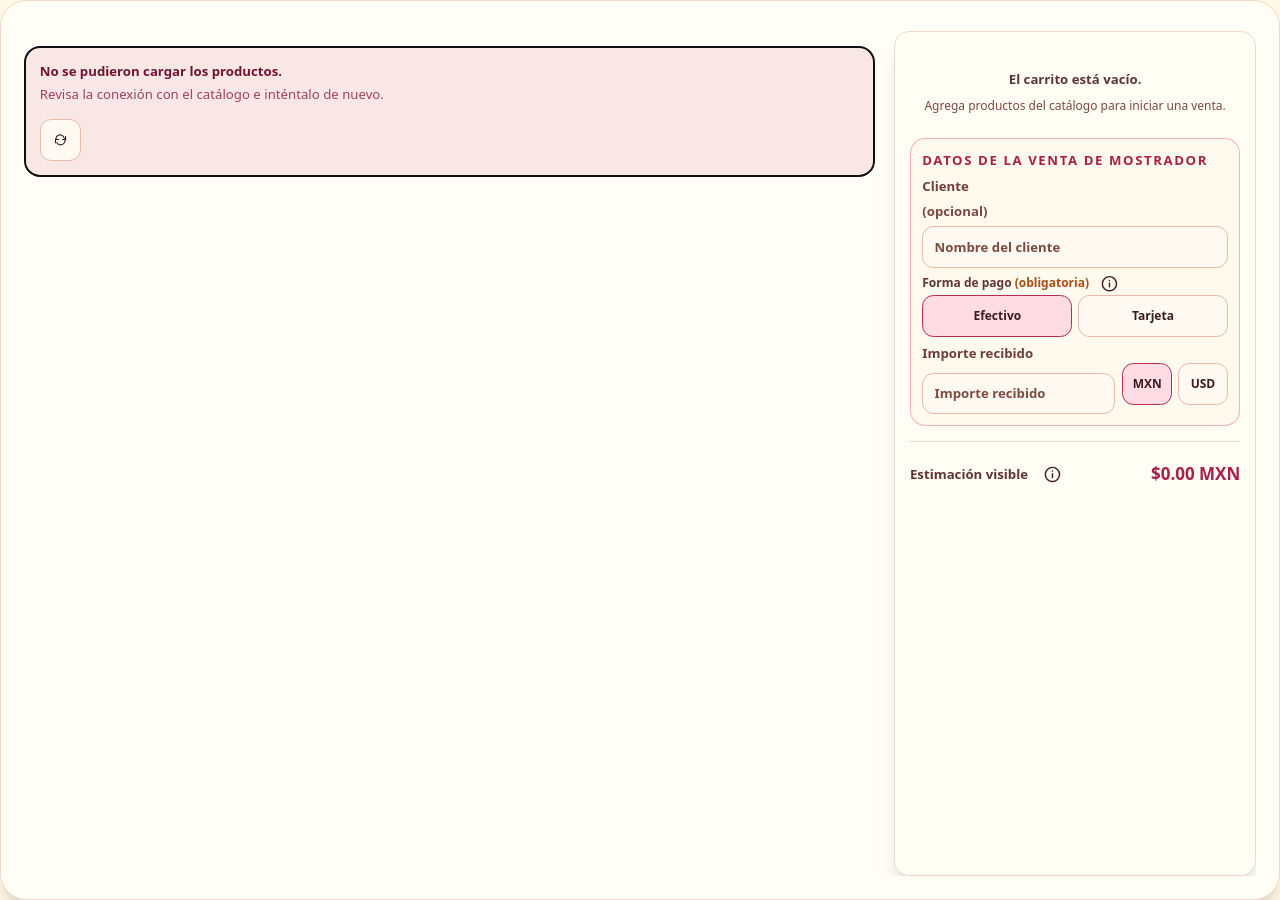
Test: sales workspace › recovers when the catalog request fails
Expected: the message shows "No se pudieron cargar los productos.", 40,62 -> 282,80
Click the button named "Reintentar".
click(60, 140)  # box 40,119 -> 81,160
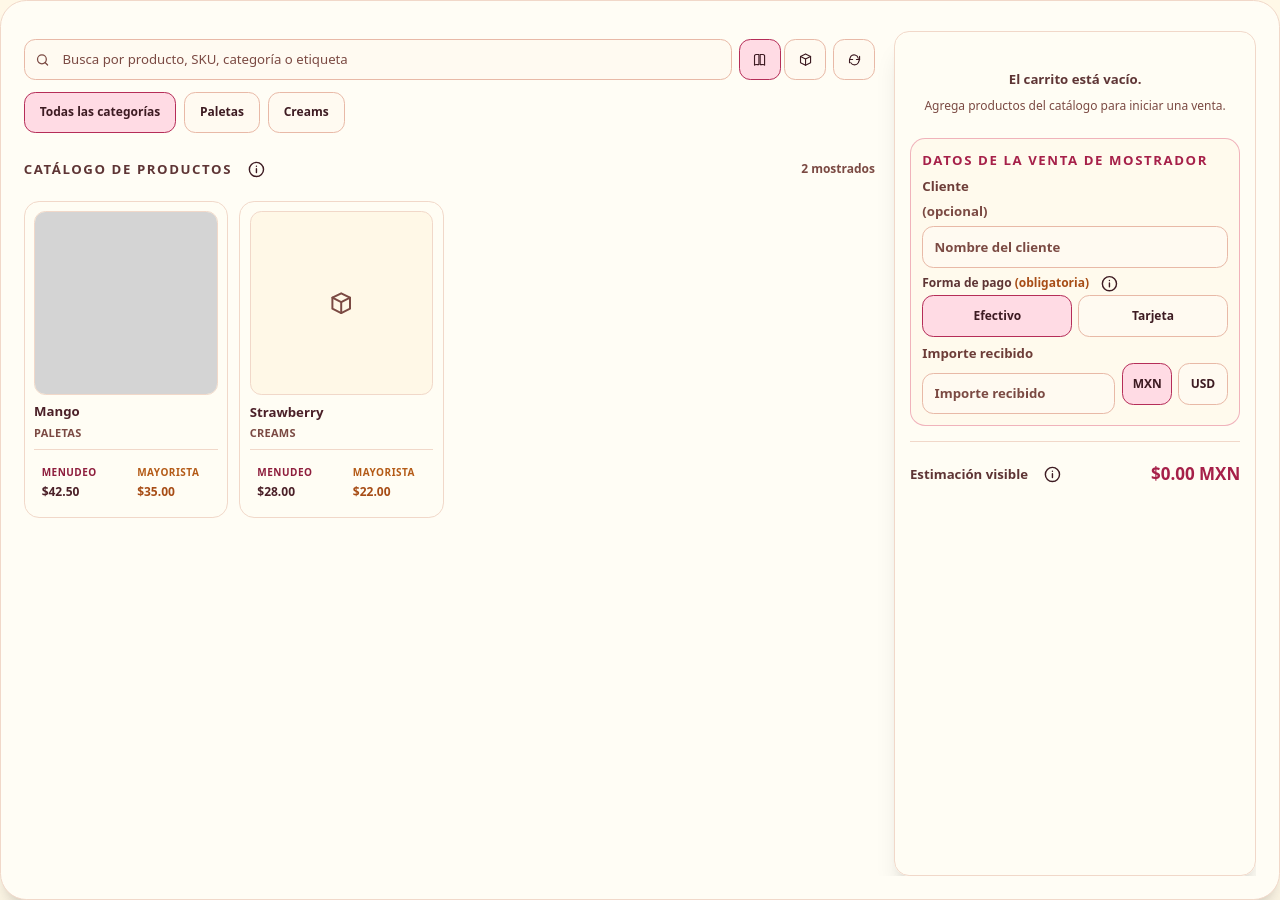
Now the heading "Mango" is shown, box 34,402 -> 80,420
